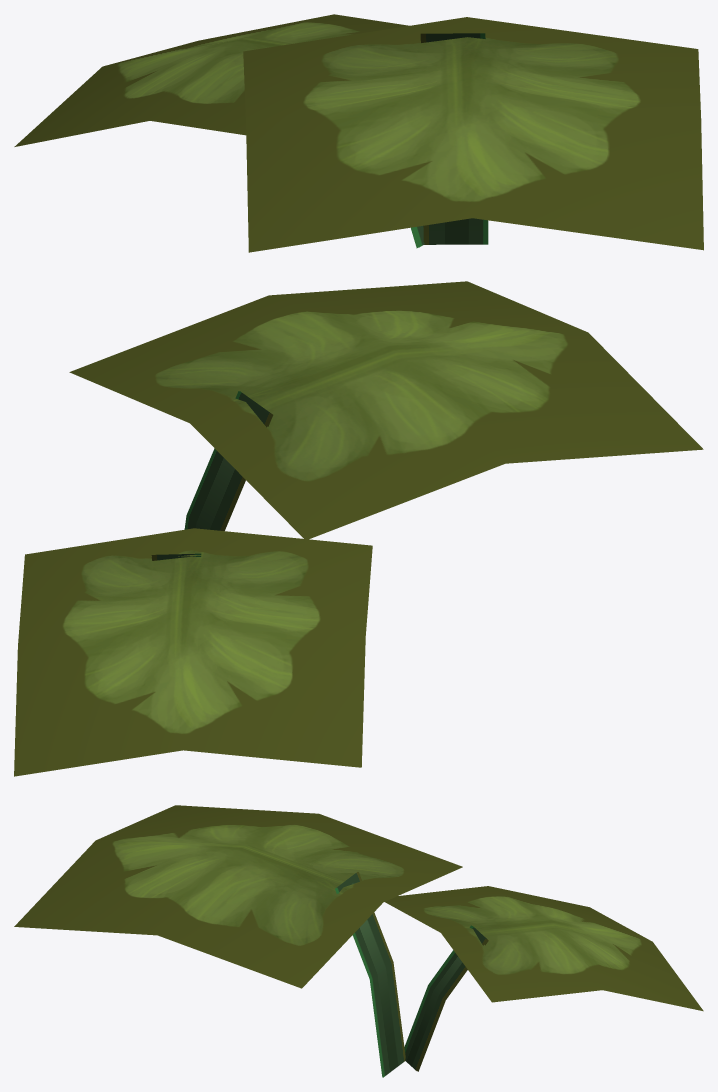
The model's file is grass_pant_04A.fbx.
The picture shows the model from 3 angles, top to bottom: view 1: azimuth 30°, elevation 25°; view 2: azimuth 150°, elevation 25°; view 3: azimuth 270°, elevation 25°; orthographic projection. The views are drawn at different scales.
Visible parts, largest first — view 1: grass_pant_04A; view 2: grass_pant_04A; view 3: grass_pant_04A.
Part boxes in pixels (left/top/right/bottom): grass_pant_04A: left=14, top=14, right=703, bottom=252; grass_pant_04A: left=14, top=281, right=703, bottom=776; grass_pant_04A: left=14, top=805, right=703, bottom=1077.
Bounding box in the file's own units: 1.22 × 0.5664 × 1.88.
